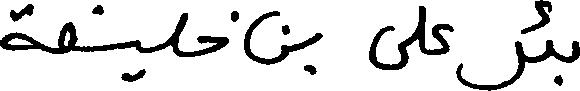X: (478, 24, 524, 90), (245, 6, 288, 69), (0, 0, 38, 55), (371, 21, 407, 74), (170, 8, 187, 61), (432, 19, 452, 59), (200, 31, 227, 60), (59, 17, 74, 58), (132, 35, 143, 86), (311, 28, 321, 79), (546, 0, 553, 63), (418, 1, 425, 58), (571, 36, 579, 67)
